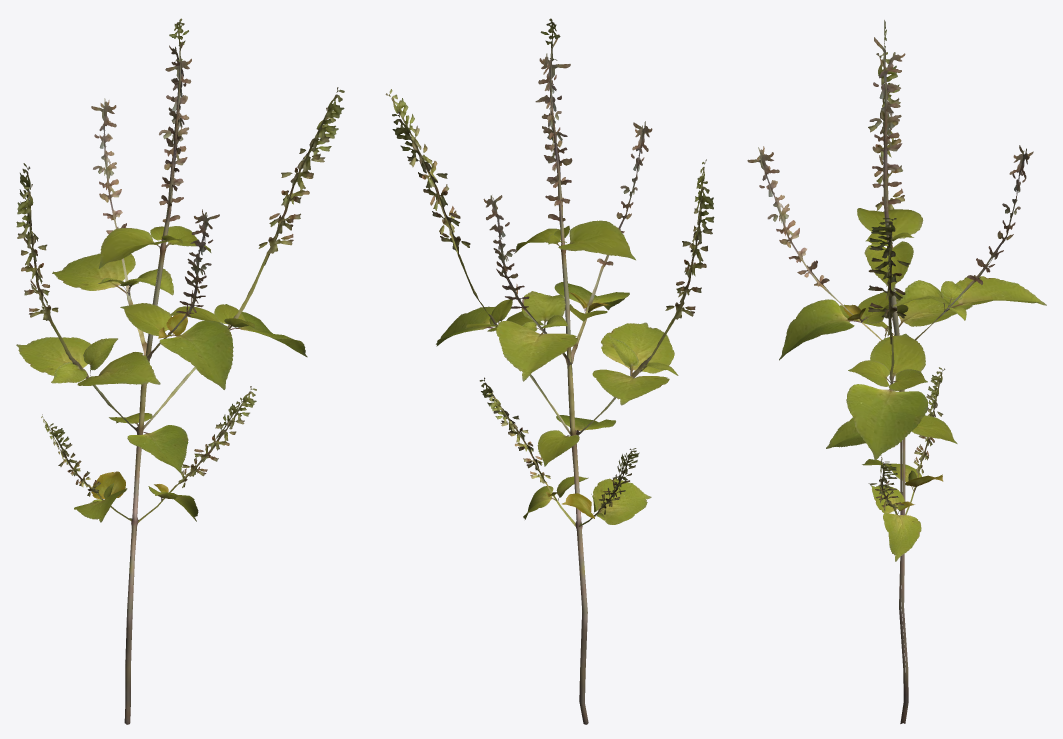
The model's file is ph-shrub-03.lod1.glb.
3 views of the same model, side by side, from view 1: azimuth 30°, elevation 25°; view 2: azimuth 150°, elevation 25°; view 3: azimuth 270°, elevation 25° (orthographic). The views are drawn at different scales.
Visible parts, largest first — view 1: shrub_03_a; view 2: shrub_03_a; view 3: shrub_03_a.
Boxes of the visible parts, bbox=[...] form: shrub_03_a: bbox=[16, 18, 344, 724]; shrub_03_a: bbox=[385, 18, 714, 724]; shrub_03_a: bbox=[747, 20, 1046, 723].
Size of the model in its own units: 0.2006 by 0.4028 by 0.1512.
1 material, 1 textured.
